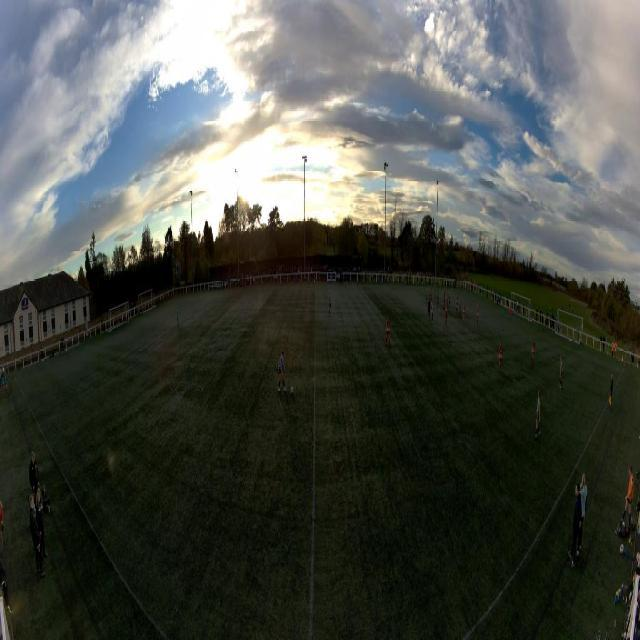ball: (290, 387, 294, 395)
player: (277, 350, 287, 391), (535, 391, 541, 438), (498, 342, 503, 374), (386, 315, 391, 346), (530, 338, 535, 367), (559, 356, 563, 387), (329, 291, 332, 316), (445, 305, 448, 327), (476, 305, 479, 327), (456, 294, 459, 315), (431, 303, 434, 324), (463, 304, 466, 324), (428, 298, 431, 316), (449, 291, 451, 311), (177, 307, 179, 327), (443, 291, 445, 310), (459, 297, 461, 316), (447, 290, 449, 308), (425, 287, 427, 304), (430, 286, 432, 302), (437, 291, 439, 307), (509, 304, 511, 319), (434, 283, 436, 297)
